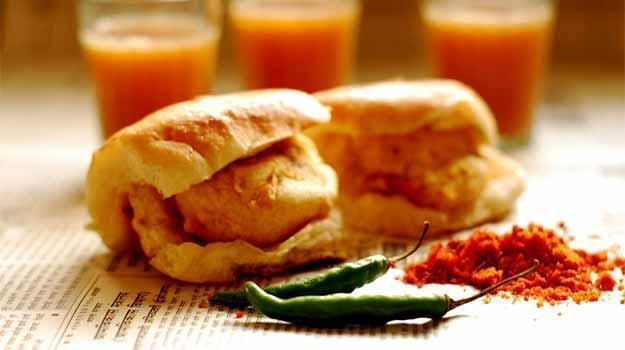vada pav: (137, 116, 325, 262)
